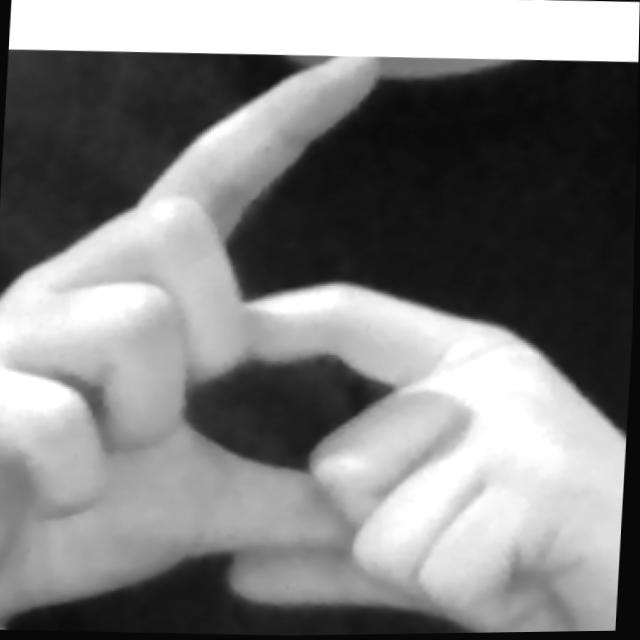G-: (0, 40, 639, 640)
